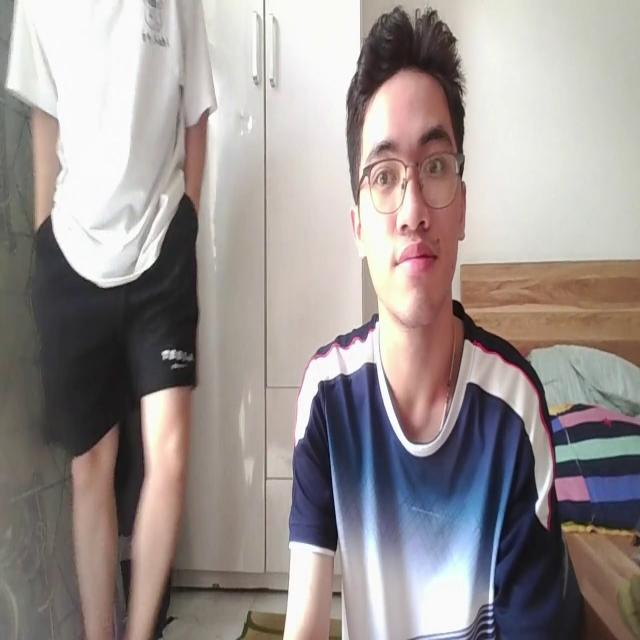extra_person: (7, 0, 213, 640)
student: (286, 0, 556, 640)
